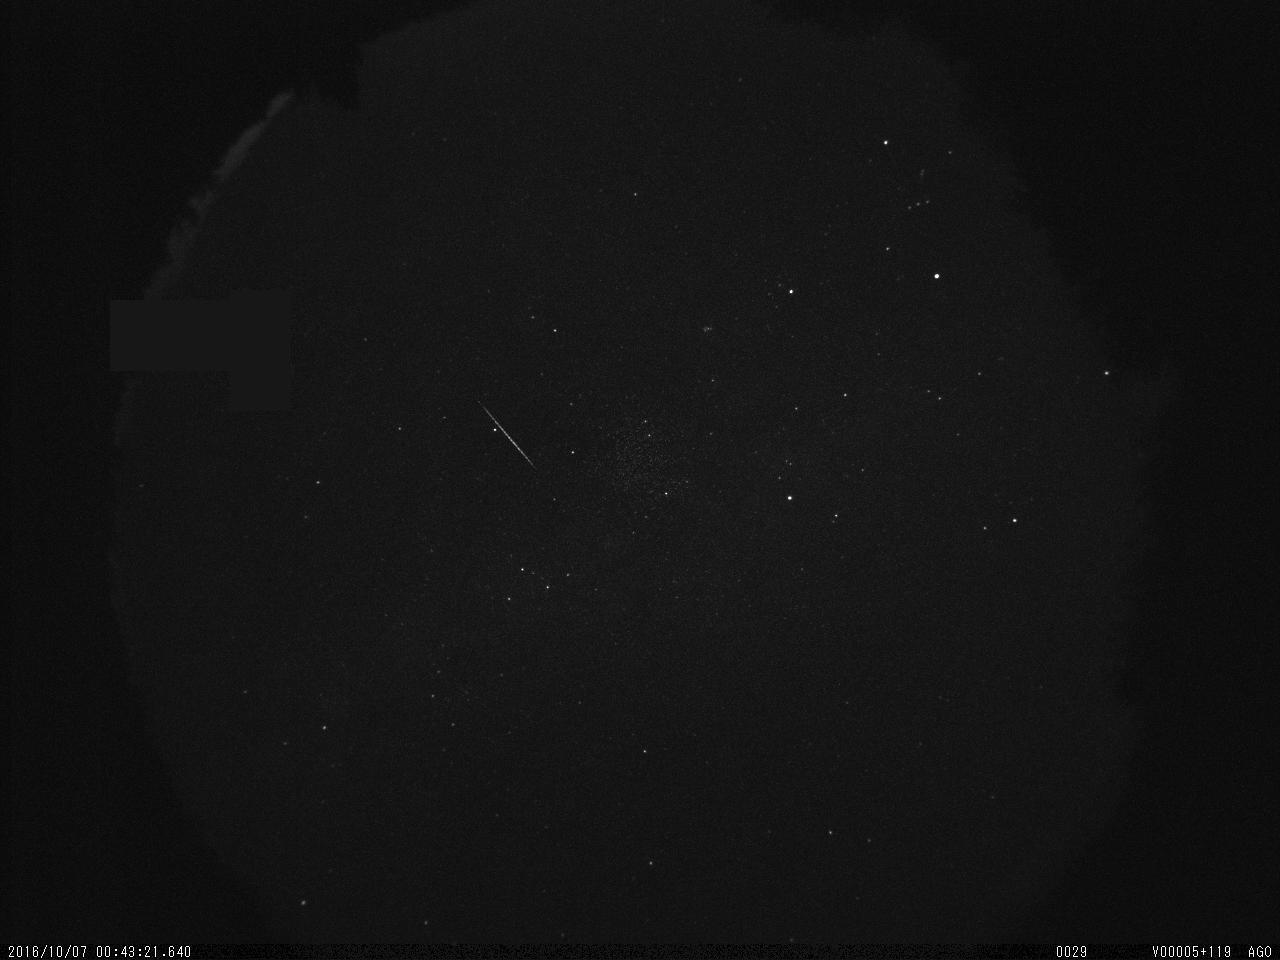meteor: (473, 398, 544, 474)
